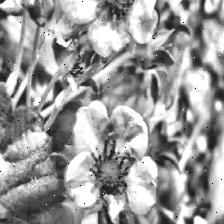Blossom Blight: (86, 136, 139, 204), (93, 0, 141, 30)
